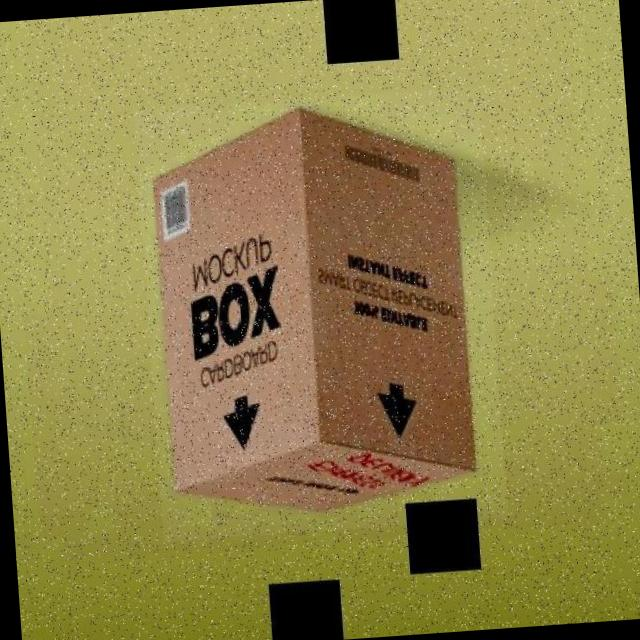box: (134, 86, 508, 542)
